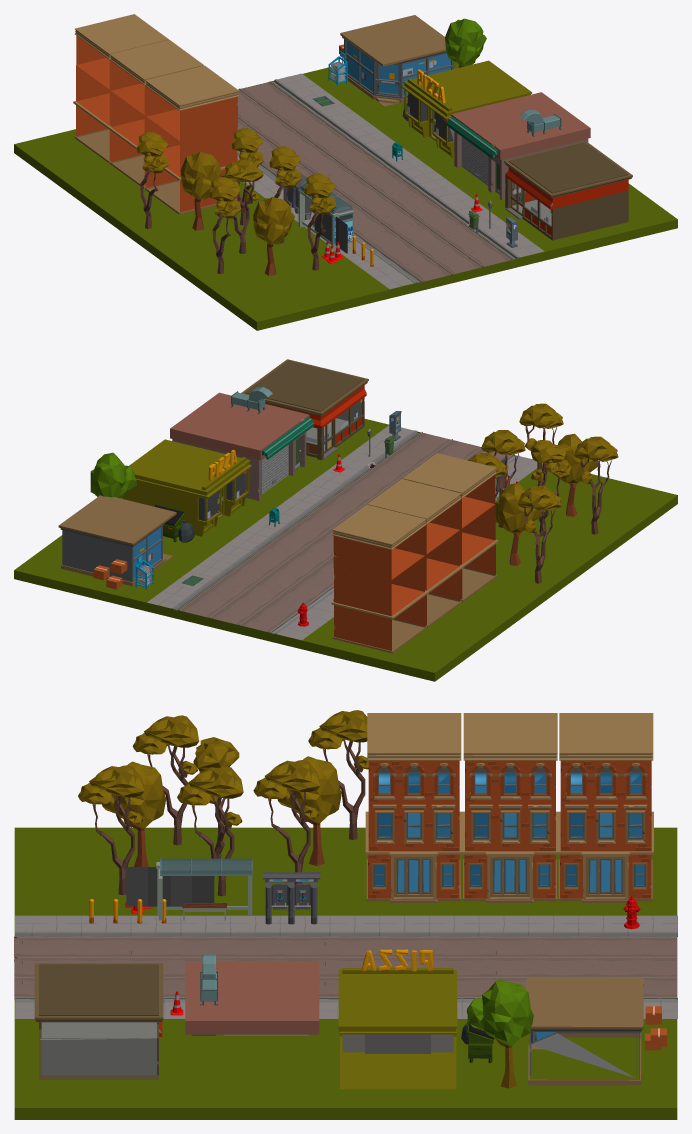
The model's file is House Area 7.fbx.
3 renders of one model, top to bottom at view 1: azimuth 30°, elevation 25°; view 2: azimuth 150°, elevation 25°; view 3: azimuth 270°, elevation 25°, orthographic. The views are drawn at different scales.
Visible parts, largest first — view 1: Plane.007, SM_Env_Path_Straight_01.005, SM_Env_Sidewalk_Straight_01.009, SM_Bld_Shop_Corner_01.003, SM_Prop_Vents_Exhaust_01, SM_Bld_Shop_Corner_02, SM_Prop_Sign_Pizza_01, SM_Bld_Apartment_02, SM_Bld_Apartment_Roof_02.039, SM_Bld_Apartment_02.001, SM_Bld_Apartment_02.002, SM_Bld_Apartment_Roof_02.038 (+14 smaller); view 2: Plane.007, SM_Env_Path_Straight_01.005, SM_Env_Sidewalk_Straight_01.009, SM_Prop_Vents_Exhaust_01, SM_Prop_Sign_Pizza_01, SM_Bld_Shop_Corner_02, SM_Bld_Apartment_Roof_02.038, SM_Bld_Shop_Corner_01.003, SM_Bld_Apartment_02.002, SM_Bld_Apartment_02, SM_Bld_Apartment_02.001, SM_Bld_Apartment_Roof_02.039 (+11 smaller); view 3: Plane.007, SM_Env_Path_Straight_01.005, SM_Env_Sidewalk_Straight_01.009, SM_Prop_Sign_Pizza_01, SM_Bld_Shop_Corner_01.003, SM_Prop_Vents_Exhaust_01, SM_Bld_Apartment_Roof_02.039, SM_Bld_Apartment_Roof_02.037, SM_Bld_Apartment_Roof_02.038, SM_Bld_Shop_Corner_02, SM_Bld_Apartment_02, SM_Bld_Apartment_02.002 (+14 smaller).
Part boxes in pixels (bbox=[...]): Plane.007: bbox=[14, 61, 677, 330]; SM_Env_Path_Straight_01.005: bbox=[237, 81, 512, 282]; SM_Env_Sidewalk_Straight_01.009: bbox=[237, 73, 544, 289]; SM_Bld_Shop_Corner_01.003: bbox=[504, 141, 632, 240]; SM_Prop_Vents_Exhaust_01: bbox=[446, 92, 590, 200]; SM_Bld_Shop_Corner_02: bbox=[340, 15, 454, 106]; SM_Prop_Sign_Pizza_01: bbox=[401, 60, 532, 157]; SM_Bld_Apartment_02: bbox=[145, 65, 239, 140]; SM_Bld_Apartment_Roof_02.039: bbox=[144, 116, 238, 214]; SM_Bld_Apartment_02.001: bbox=[109, 39, 203, 114]; SM_Bld_Apartment_02.002: bbox=[75, 14, 168, 89]; SM_Bld_Apartment_Roof_02.038: bbox=[73, 65, 111, 163]; Plane.007: bbox=[14, 419, 677, 681]; SM_Env_Path_Straight_01.005: bbox=[179, 432, 512, 632]; SM_Env_Sidewalk_Straight_01.009: bbox=[147, 411, 542, 640]; SM_Prop_Vents_Exhaust_01: bbox=[170, 387, 314, 500]; SM_Prop_Sign_Pizza_01: bbox=[122, 439, 251, 536]; SM_Bld_Shop_Corner_02: bbox=[58, 495, 176, 586]; SM_Bld_Apartment_Roof_02.038: bbox=[331, 556, 427, 653]; SM_Bld_Shop_Corner_01.003: bbox=[241, 359, 368, 459]; SM_Bld_Apartment_02.002: bbox=[332, 504, 426, 579]; SM_Bld_Apartment_02: bbox=[402, 453, 496, 528]; SM_Bld_Apartment_02.001: bbox=[367, 479, 461, 554]; SM_Bld_Apartment_Roof_02.039: bbox=[460, 504, 498, 601]; Plane.007: bbox=[14, 827, 677, 1119]; SM_Env_Path_Straight_01.005: bbox=[14, 936, 676, 1000]; SM_Env_Sidewalk_Straight_01.009: bbox=[15, 896, 677, 1018]; SM_Prop_Sign_Pizza_01: bbox=[338, 949, 457, 1089]; SM_Bld_Shop_Corner_01.003: bbox=[34, 963, 163, 1079]; SM_Prop_Vents_Exhaust_01: bbox=[185, 954, 319, 1035]; SM_Bld_Apartment_Roof_02.039: bbox=[365, 801, 461, 902]; SM_Bld_Apartment_Roof_02.037: bbox=[462, 801, 558, 902]; SM_Bld_Apartment_Roof_02.038: bbox=[557, 801, 653, 902]; SM_Bld_Shop_Corner_02: bbox=[526, 977, 643, 1085]; SM_Bld_Apartment_02: bbox=[367, 713, 461, 801]; SM_Bld_Apartment_02.002: bbox=[559, 713, 653, 801].
Bounding box in the file's own units: 10000 × 2684 × 10019.
